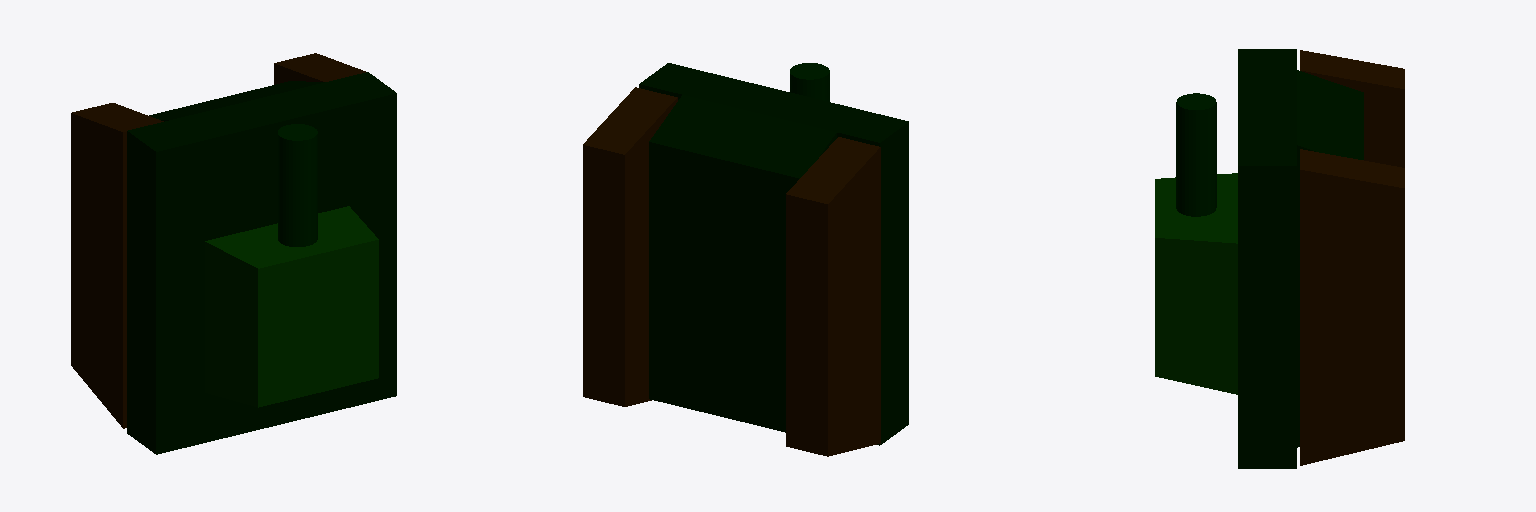
The model's file is tank.obj.
The picture shows the model from 3 angles: view 1: azimuth 30°, elevation 25°; view 2: azimuth 150°, elevation 25°; view 3: azimuth 270°, elevation 25°; orthographic projection.
Visible parts, largest first — view 1: TankBase_TankBaseData, Turret_TankTurretData, TankTracks_TankTracksData, TurretGun_TurretGunData; view 2: TankBase_TankBaseData, TankTracks_TankTracksData, TurretGun_TurretGunData; view 3: TankTracks_TankTracksData, TankBase_TankBaseData, Turret_TankTurretData, TurretGun_TurretGunData.
Part boxes in pixels (x1,y1,x2,y2): TankBase_TankBaseData: (127,72,396,454); Turret_TankTurretData: (205,206,378,407); TankTracks_TankTracksData: (71,53,365,428); TurretGun_TurretGunData: (278,124,317,246); TankBase_TankBaseData: (639,63,908,445); TankTracks_TankTracksData: (583,87,880,456); TurretGun_TurretGunData: (790,63,829,101); TankTracks_TankTracksData: (1300,50,1404,465); TankBase_TankBaseData: (1238,49,1363,468); Turret_TankTurretData: (1155,173,1237,394); TurretGun_TurretGunData: (1176,93,1216,216).
Bounding box in the file's own units: 1.7 × 2.04 × 1.5.